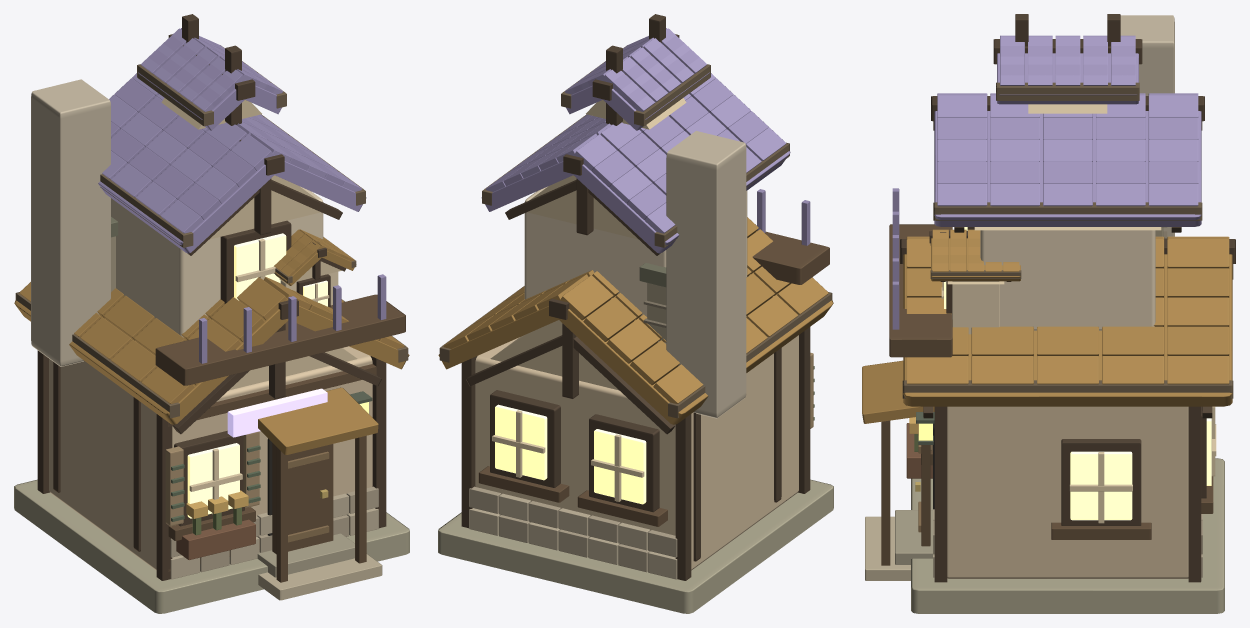
File: workshop-3-3.glb
The picture shows the model from 3 angles, left to right: view 1: azimuth 30°, elevation 25°; view 2: azimuth 150°, elevation 25°; view 3: azimuth 270°, elevation 25°; orthographic projection. The views are drawn at different scales.
Parts seen in each view (by area): view 1: workshop-3-3, door-hinge; view 2: workshop-3-3; view 3: workshop-3-3, door-hinge.
Part boxes in pixels (<box>): workshop-3-3: <box>14,14,409,613</box>; door-hinge: <box>272,443,333,554</box>; workshop-3-3: <box>438,14,833,613</box>; workshop-3-3: <box>862,14,1235,613</box>; door-hinge: <box>915,424,930,546</box>.
Size of the model in its own units: 1.91 by 3.51 by 2.24.
